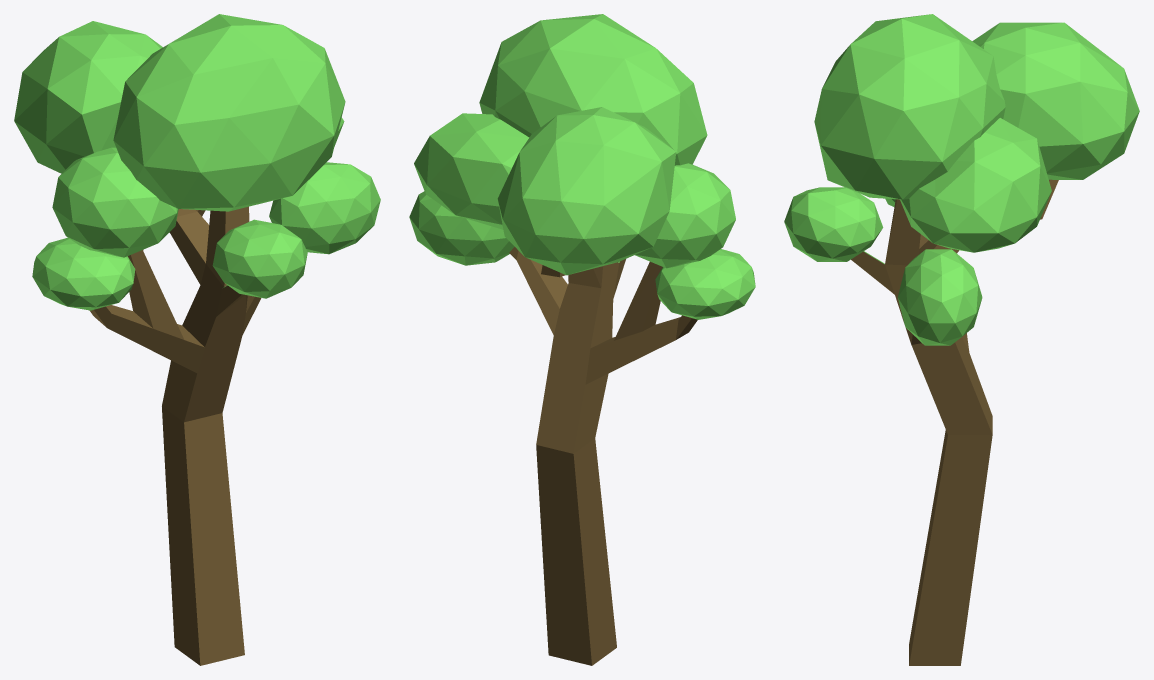
File: T_tree4.fbx
3 renders of one model, left to right at view 1: azimuth 30°, elevation 25°; view 2: azimuth 150°, elevation 25°; view 3: azimuth 270°, elevation 25°, orthographic. The views are drawn at different scales.
Visible parts, largest first — view 1: Cube; view 2: Cube; view 3: Cube.
Part boxes in pixels (x1,y1,x2,y2): Cube: (14, 14, 380, 665); Cube: (409, 14, 755, 665); Cube: (784, 14, 1139, 665).
Size of the model in its own units: 476 by 860 by 434.
